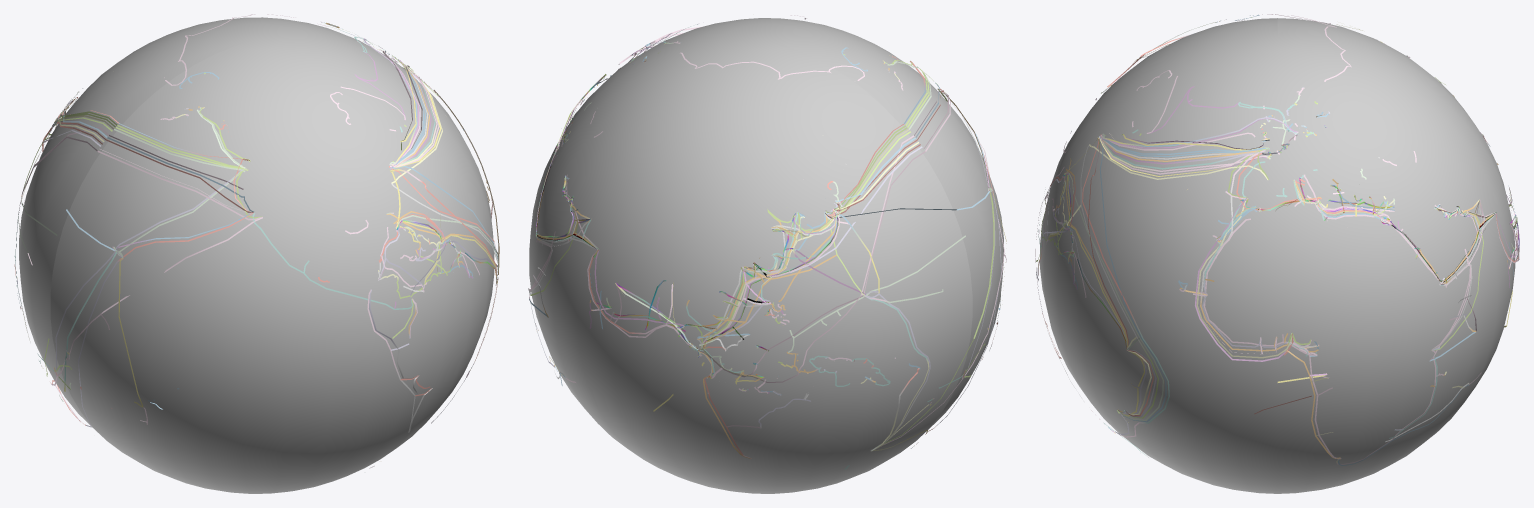
3 views of the same model, side by side, from view 1: azimuth 30°, elevation 25°; view 2: azimuth 150°, elevation 25°; view 3: azimuth 270°, elevation 25° (orthographic).
Visible parts, largest first — view 1: Renderer Node_3; view 2: Renderer Node_3; view 3: Renderer Node_3.
Boxes of the visible parts, bbox=[...] form: Renderer Node_3: bbox=[14, 14, 499, 493]; Renderer Node_3: bbox=[528, 15, 1006, 493]; Renderer Node_3: bbox=[1035, 14, 1519, 493].
Bounding box in the file's own units: 6008 × 5900 × 6004.
